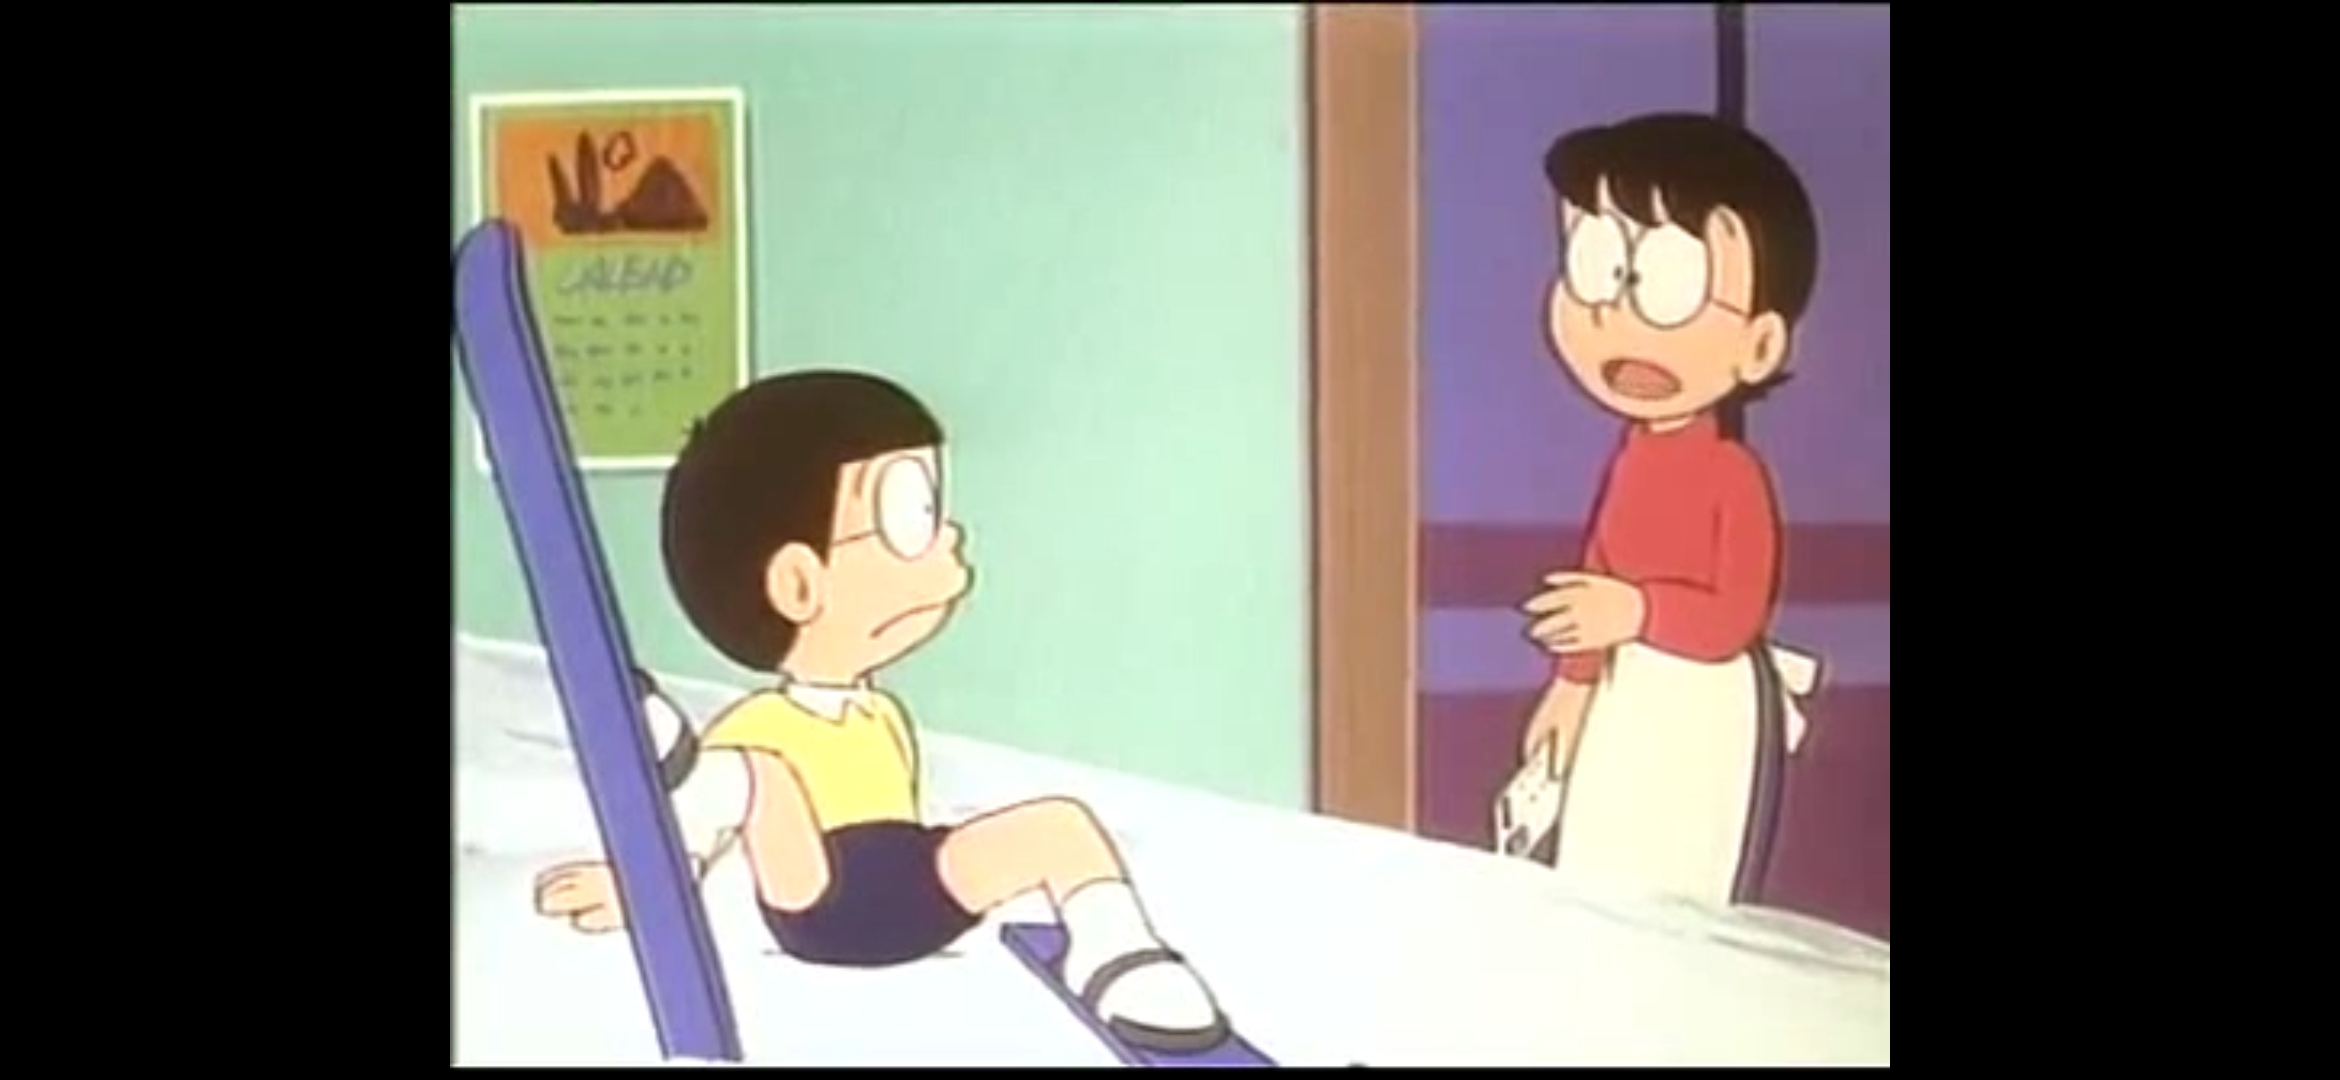Nobi: (658, 367, 973, 682)
